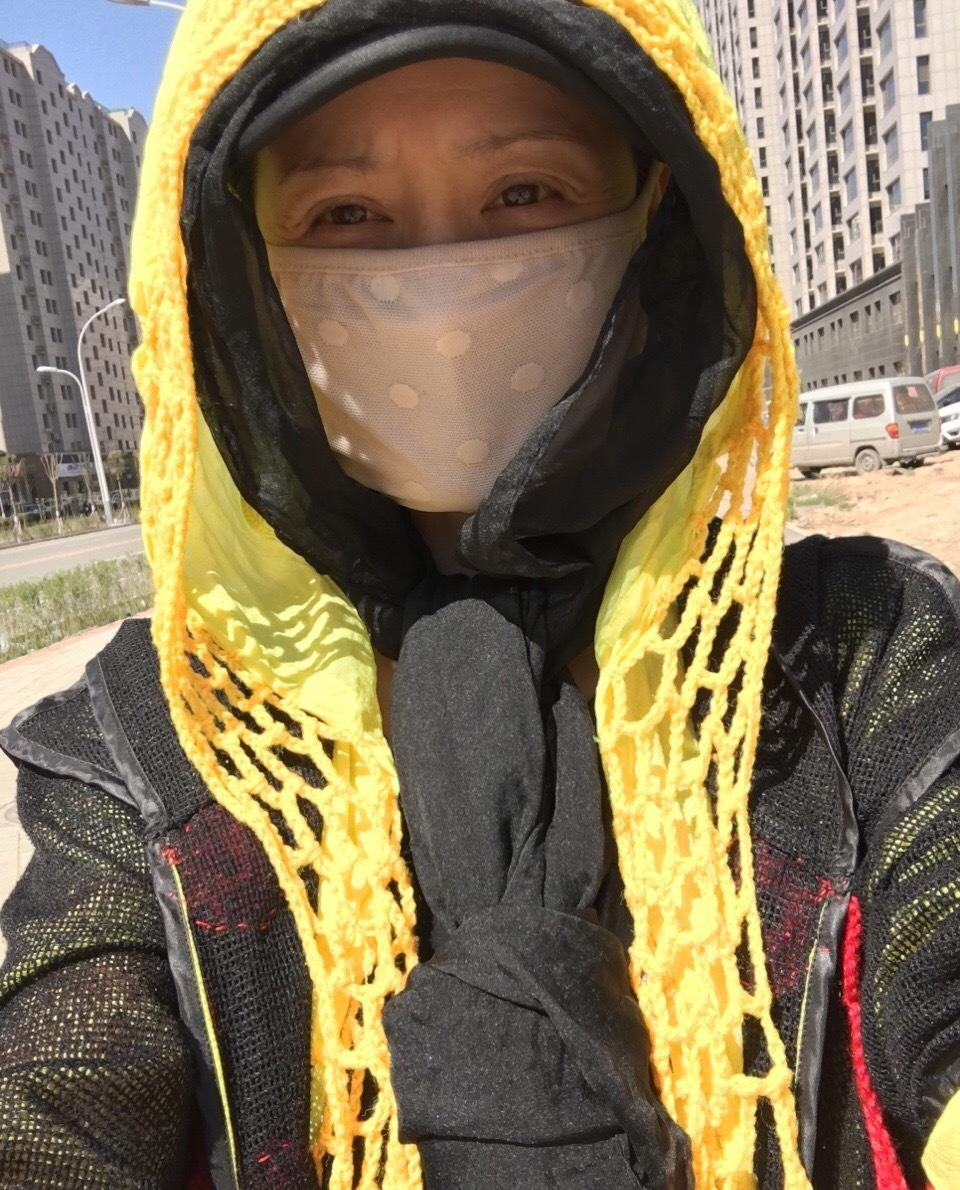Mask: (275, 119, 661, 504)
